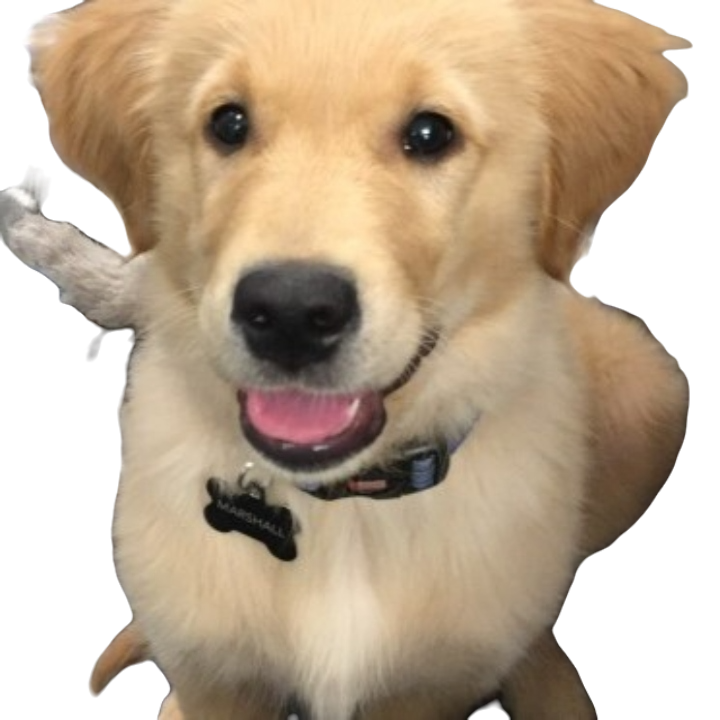Dog: (7, 0, 691, 720)
